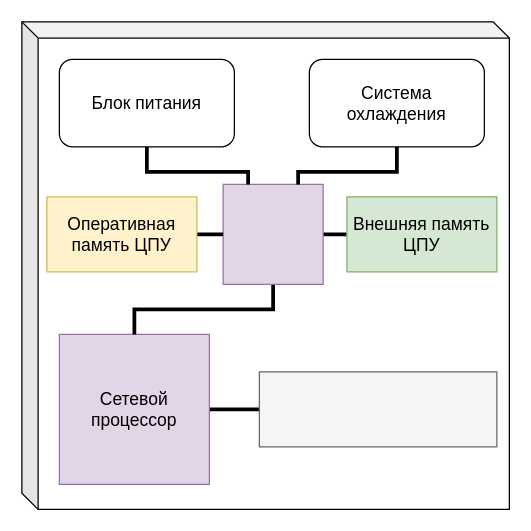
Image size: 531x531. Some labels were removed from this diagram. Each missing label, with the centre of its shape:
"Интерфейсы портов" goes at (x=377, y=409).
"ЦПУ" goes at (x=272, y=233).
